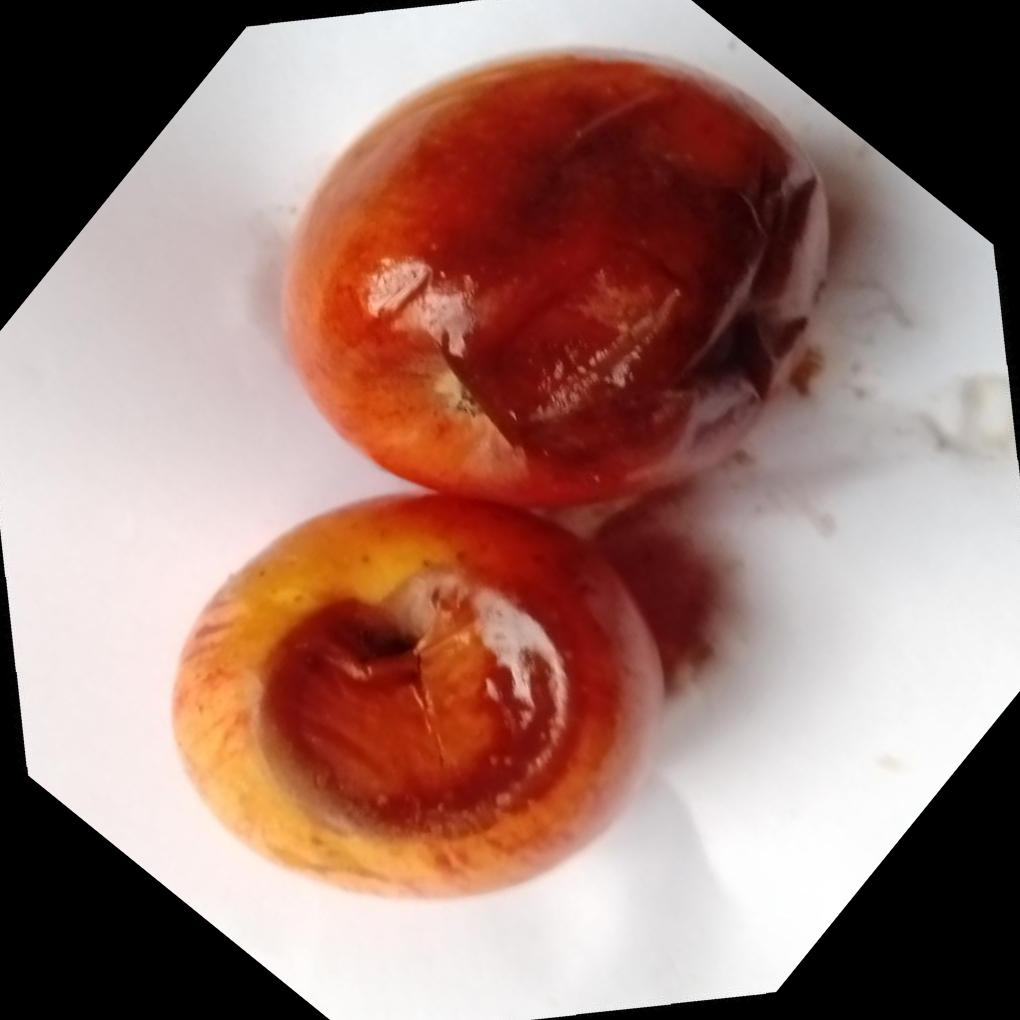FreshOrange: (168, 43, 831, 901)
